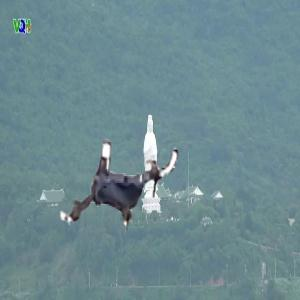drone: (54, 122, 185, 253)
